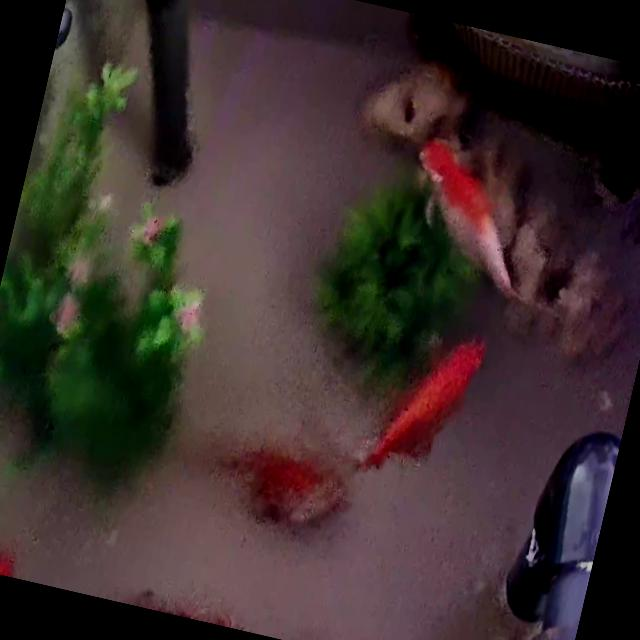fish: (394, 134, 548, 307), (366, 316, 489, 487), (198, 432, 337, 538)
